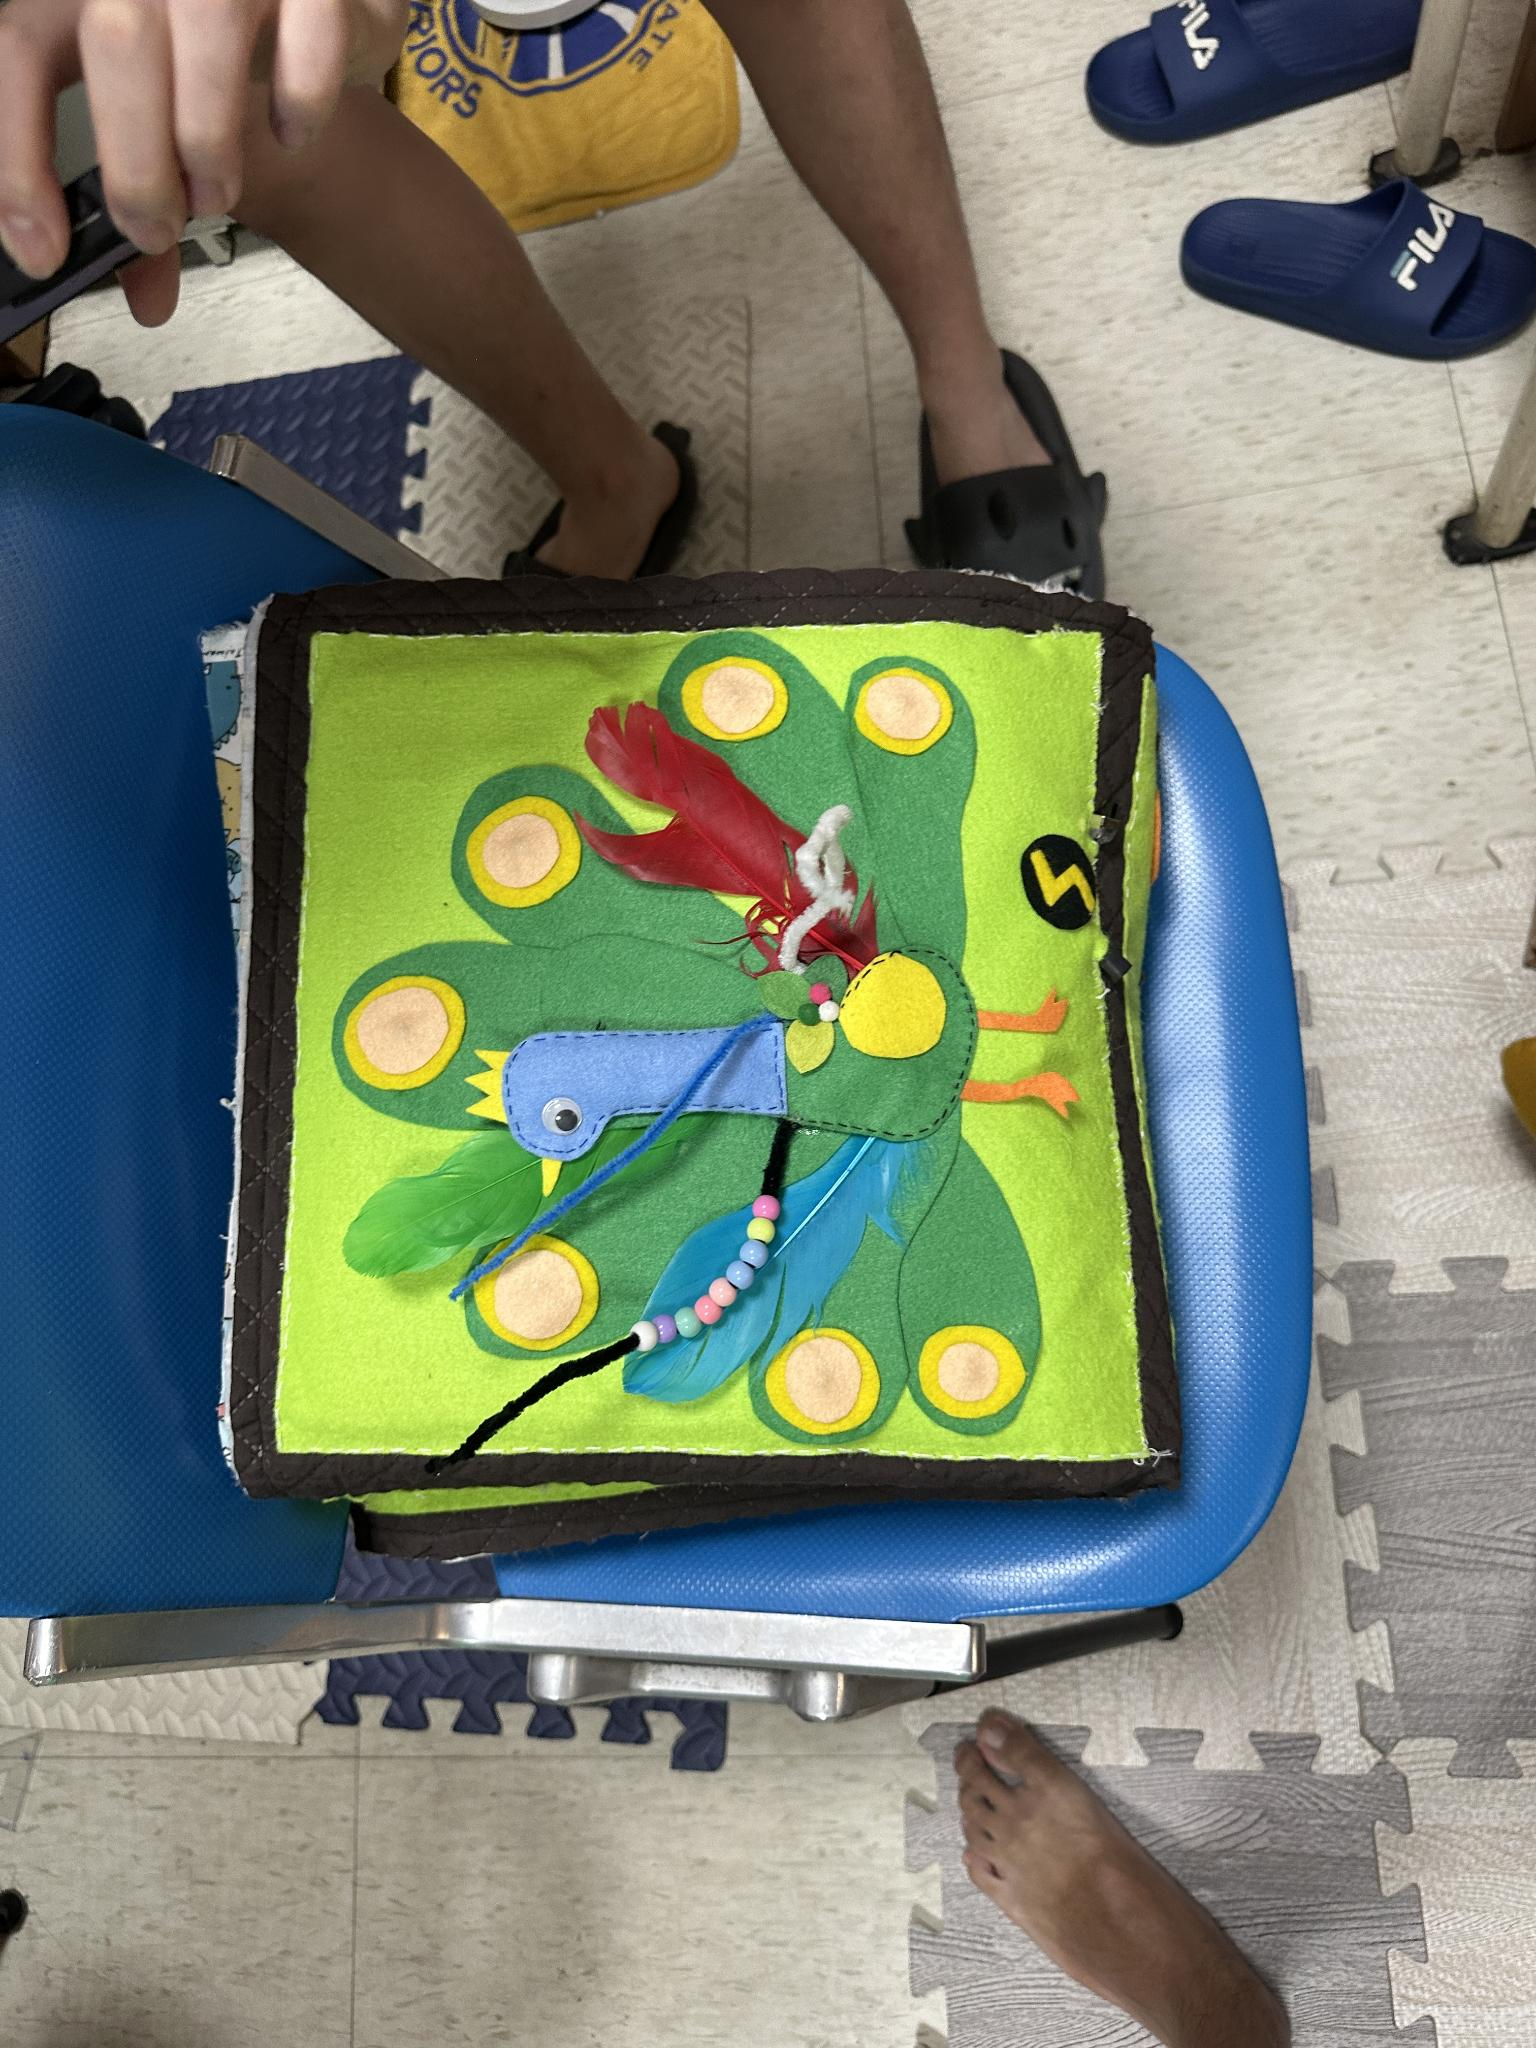bead: (626, 1313, 655, 1355), (739, 1235, 774, 1263), (692, 1297, 723, 1327), (744, 1218, 781, 1242), (753, 1192, 783, 1221), (729, 1258, 757, 1287), (716, 1272, 736, 1309), (658, 1314, 679, 1345), (678, 1309, 702, 1335)
